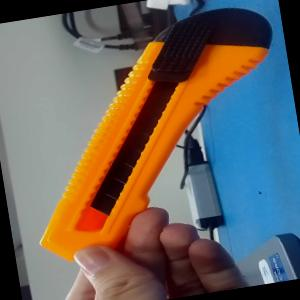estilete: (5, 0, 300, 265)
